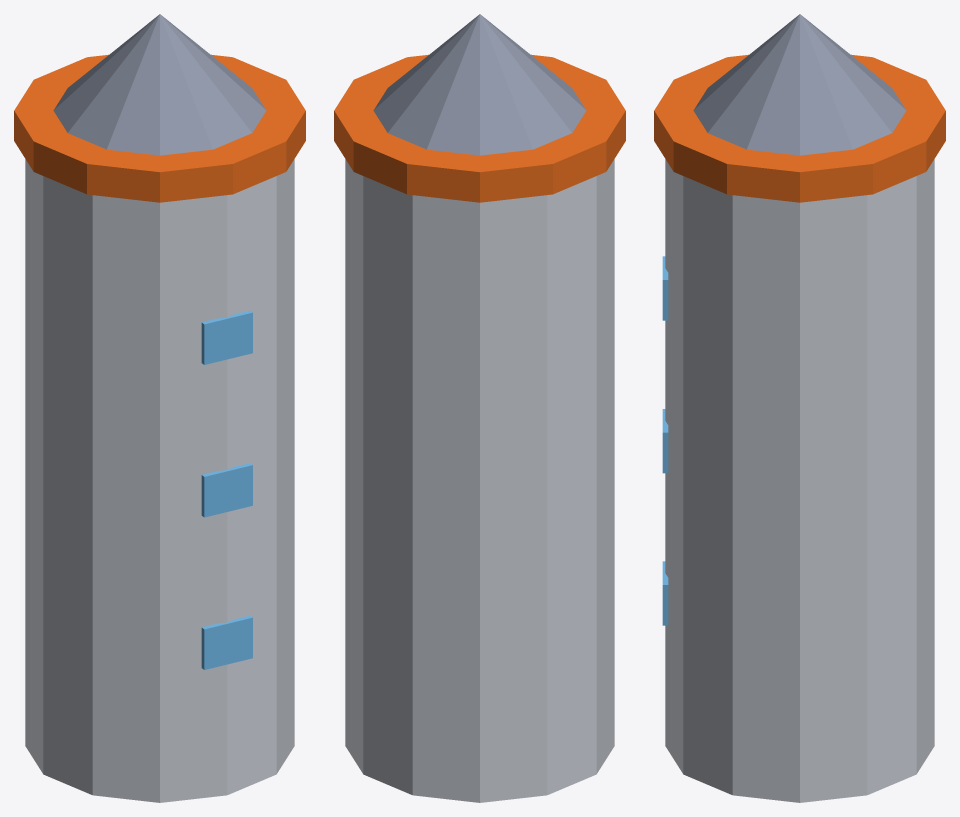
File: colony-hab-tower.glb
3 renders of one model, left to right at view 1: azimuth 30°, elevation 25°; view 2: azimuth 150°, elevation 25°; view 3: azimuth 270°, elevation 25°, orthographic.
Visible parts, largest first — view 1: hab_tower; view 2: hab_tower; view 3: hab_tower.
Part boxes in pixels (box(x1,y1,x2,y2)): hab_tower: box(14, 14, 305, 802); hab_tower: box(334, 14, 625, 802); hab_tower: box(654, 14, 945, 802).
Size of the model in its own units: 2.6 by 7.2 by 2.6.
